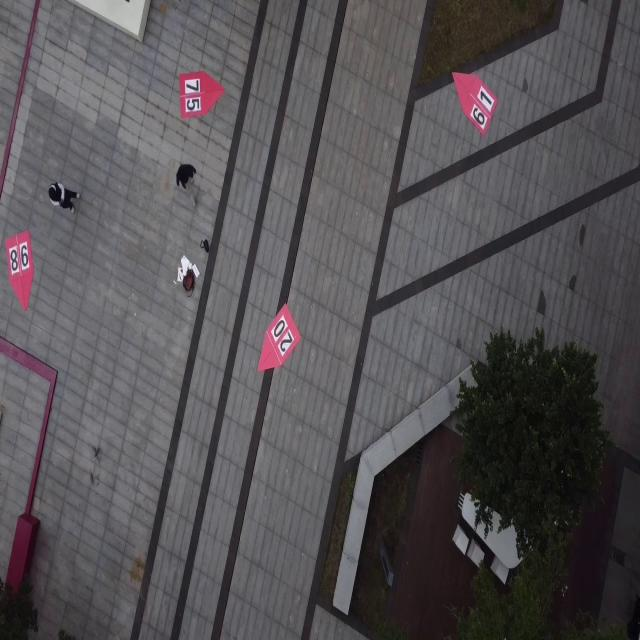-sign-: (256, 302, 302, 372), (452, 71, 497, 137), (178, 70, 226, 121), (5, 230, 33, 311)
